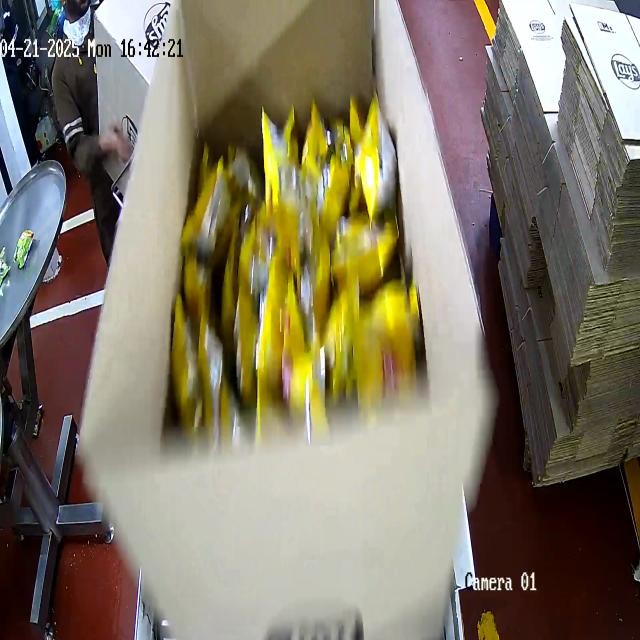SALTED: (163, 93, 415, 457)
